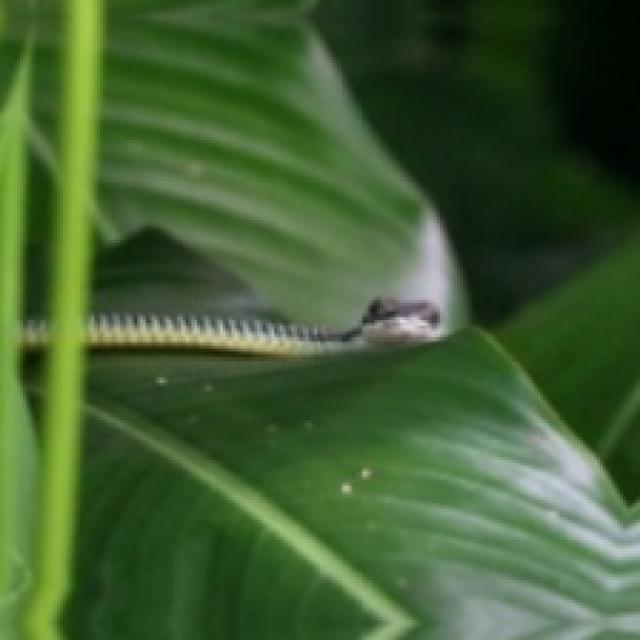paradise tree snake: (86, 297, 437, 354)
